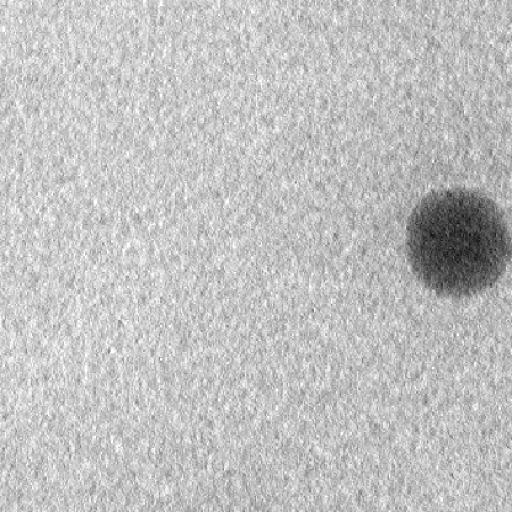Nanoparticles: (405, 186, 512, 299)
